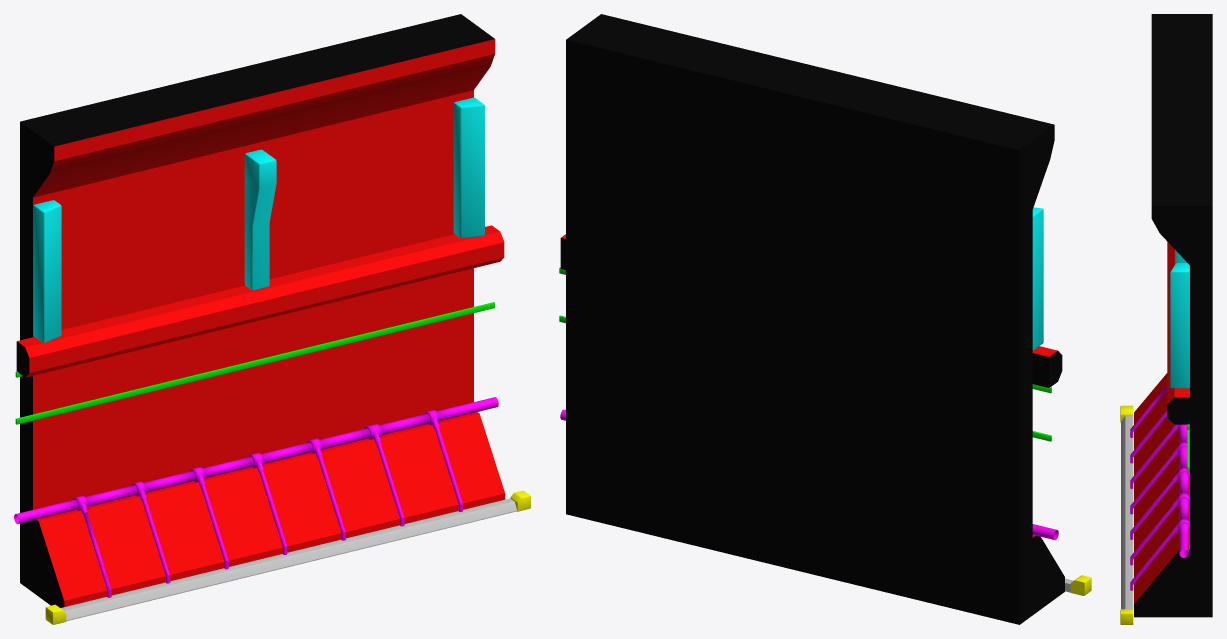
File: Base_Wall_Type_2_low.fbx
3 views of the same model, side by side, from view 1: azimuth 30°, elevation 25°; view 2: azimuth 150°, elevation 25°; view 3: azimuth 270°, elevation 25° (orthographic). The views are drawn at different scales.
Parts seen in each view (by area): view 1: Base_Wall_Type_2_low; view 2: Base_Wall_Type_2_low; view 3: Base_Wall_Type_2_low.
Part boxes in pixels (x1,y1,x2,y2): Base_Wall_Type_2_low: (14,14,530,624); Base_Wall_Type_2_low: (559,14,1091,624); Base_Wall_Type_2_low: (1120,14,1212,624).
Bounding box in the file's own units: 305 × 280 × 56.88.
